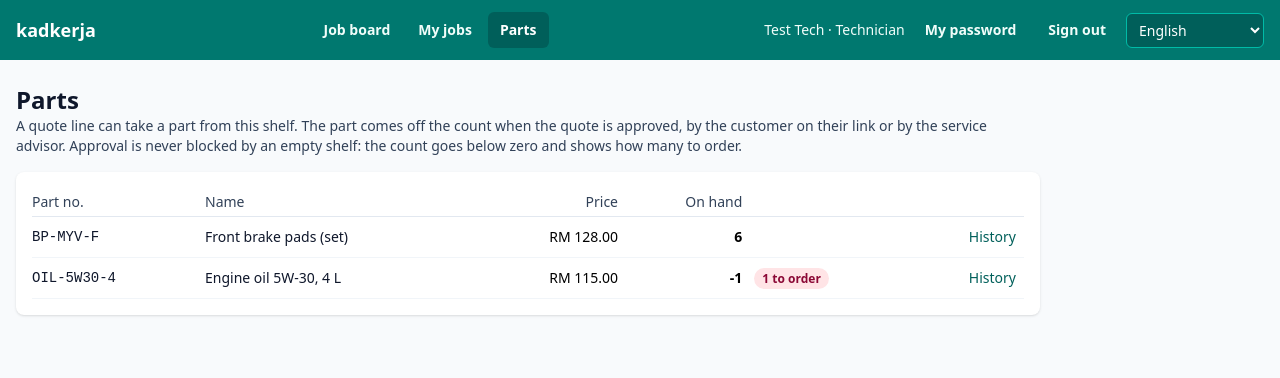
Test: Parts page › a technician sees the shelf and history but cannot change it
Expected: the table is shown, [32,188,1024,299]
Click the button with aria-label "History of BP-MYV-F" at (992,237), box [961,223,1024,251]
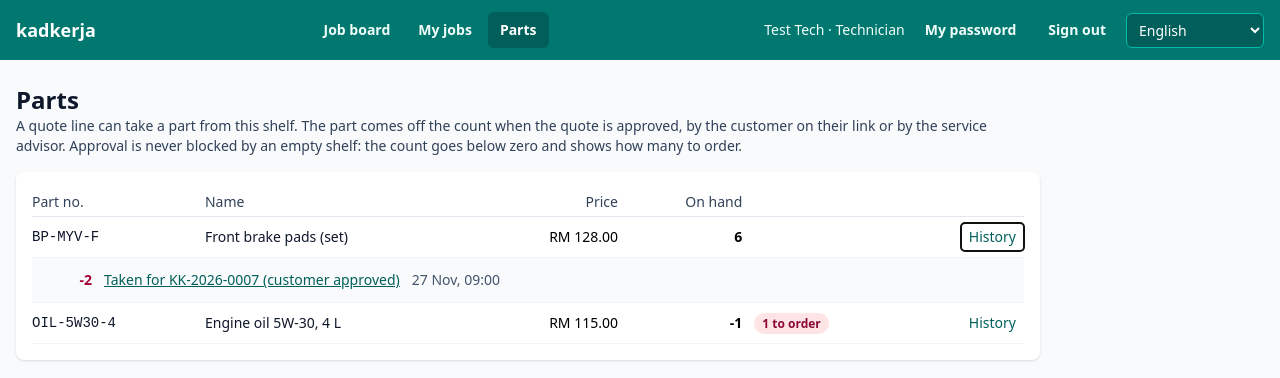
Expected: the text "-2" is shown, [80,270,92,289]
